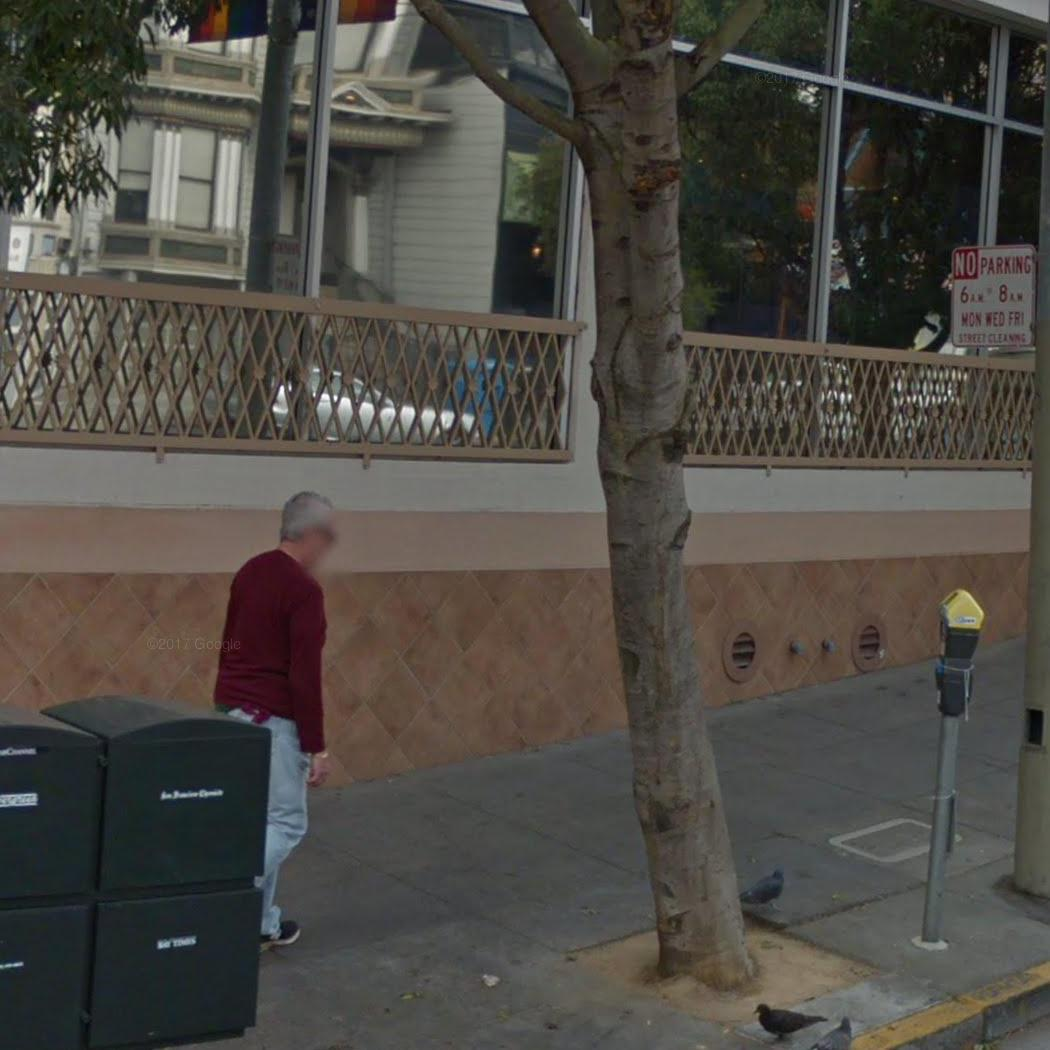No Parking: (942, 242, 1038, 358)
